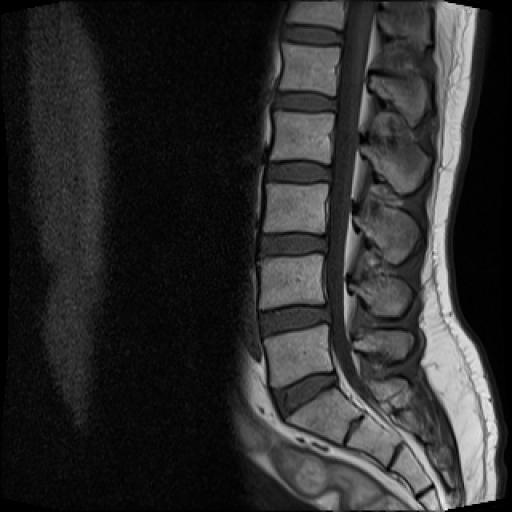L1: (280, 44, 338, 96)
L2: (272, 113, 332, 164)
L3: (264, 183, 326, 234)
L4: (259, 256, 324, 310)
L5: (264, 324, 332, 386)
S1: (287, 388, 361, 444)
